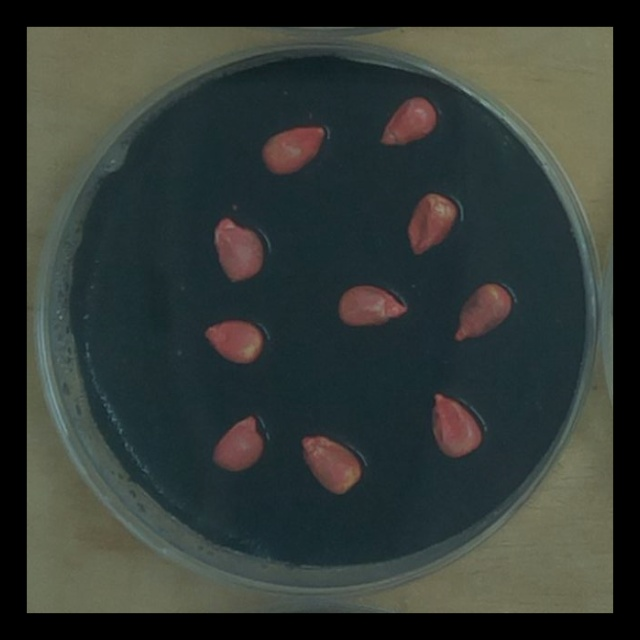Zea mays: (294, 428, 370, 503), (446, 276, 518, 351), (423, 388, 489, 467), (205, 210, 270, 290), (253, 120, 331, 182), (203, 408, 271, 479), (400, 188, 462, 263), (332, 280, 414, 335), (374, 90, 443, 155), (197, 314, 270, 372)
